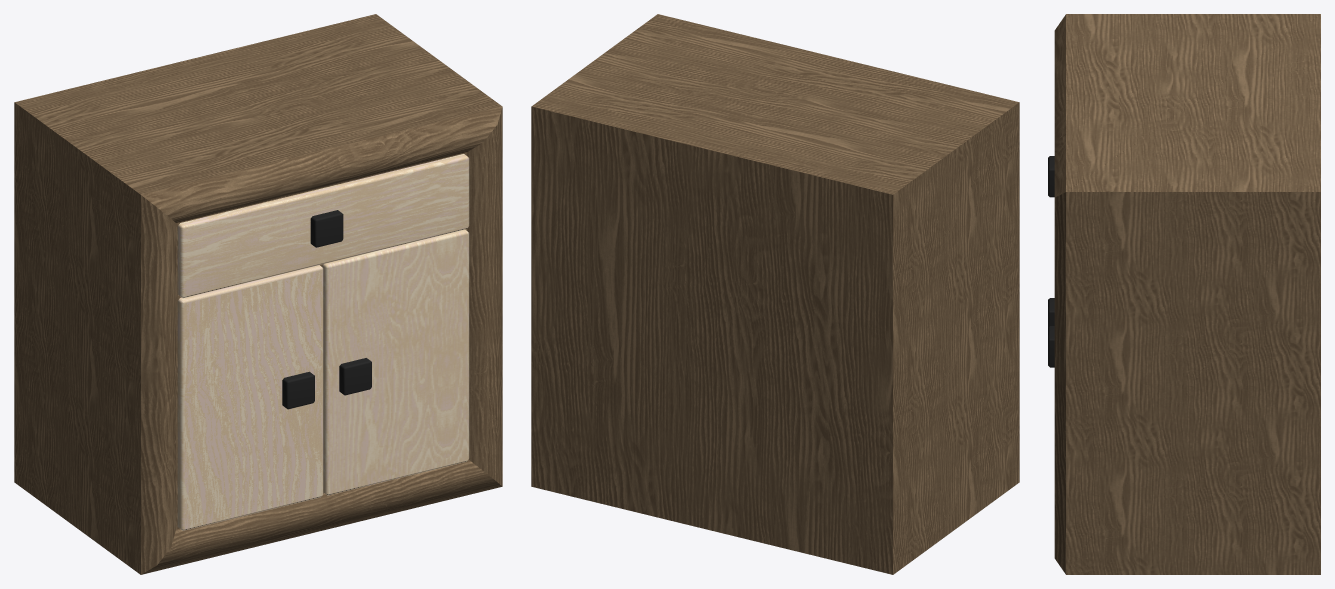
File: cupboard_013.fbx
3 renders of one model, left to right at view 1: azimuth 30°, elevation 25°; view 2: azimuth 150°, elevation 25°; view 3: azimuth 270°, elevation 25°, orthographic.
Parts seen in each view (by area): view 1: cupboard_013; view 2: cupboard_013; view 3: cupboard_013.
Boxes of the visible parts, bbox=[...] form: cupboard_013: bbox=[14, 14, 502, 574]; cupboard_013: bbox=[531, 14, 1019, 574]; cupboard_013: bbox=[1048, 14, 1320, 574].
Bounding box in the file's own units: 114 × 74.22 × 115.
